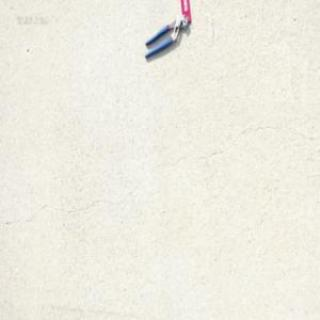LuggageTagtrack_idkeyframe: (179, 0, 192, 28)
Pliertrack_idkeyframe: (142, 13, 188, 59)
